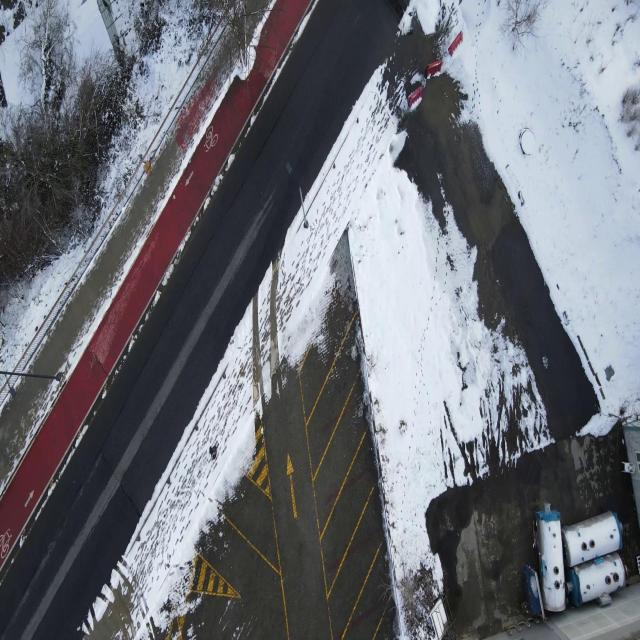p3rson: (209, 442, 220, 461)
